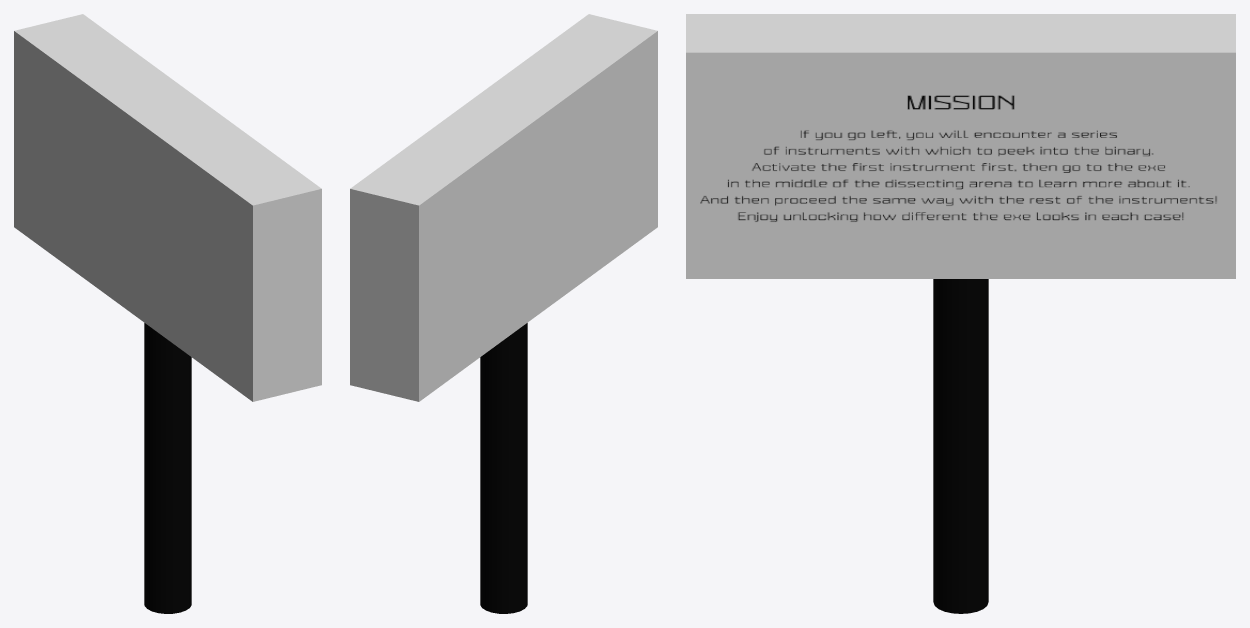
Rendered from mission.fbx.
3 renders of one model, left to right at view 1: azimuth 30°, elevation 25°; view 2: azimuth 150°, elevation 25°; view 3: azimuth 270°, elevation 25°, orthographic. The views are drawn at different scales.
Visible parts, largest first — view 1: pCube1, pCylinder1; view 2: pCube1, pCylinder1; view 3: pCube1, pCylinder1.
Boxes of the visible parts, bbox=[...] form: pCube1: bbox=[14, 14, 321, 401]; pCylinder1: bbox=[144, 323, 191, 613]; pCube1: bbox=[350, 14, 657, 401]; pCylinder1: bbox=[480, 323, 527, 613]; pCube1: bbox=[686, 14, 1235, 278]; pCylinder1: bbox=[933, 279, 988, 613].
Size of the model in its own units: 1 by 6.84 by 5.99.
